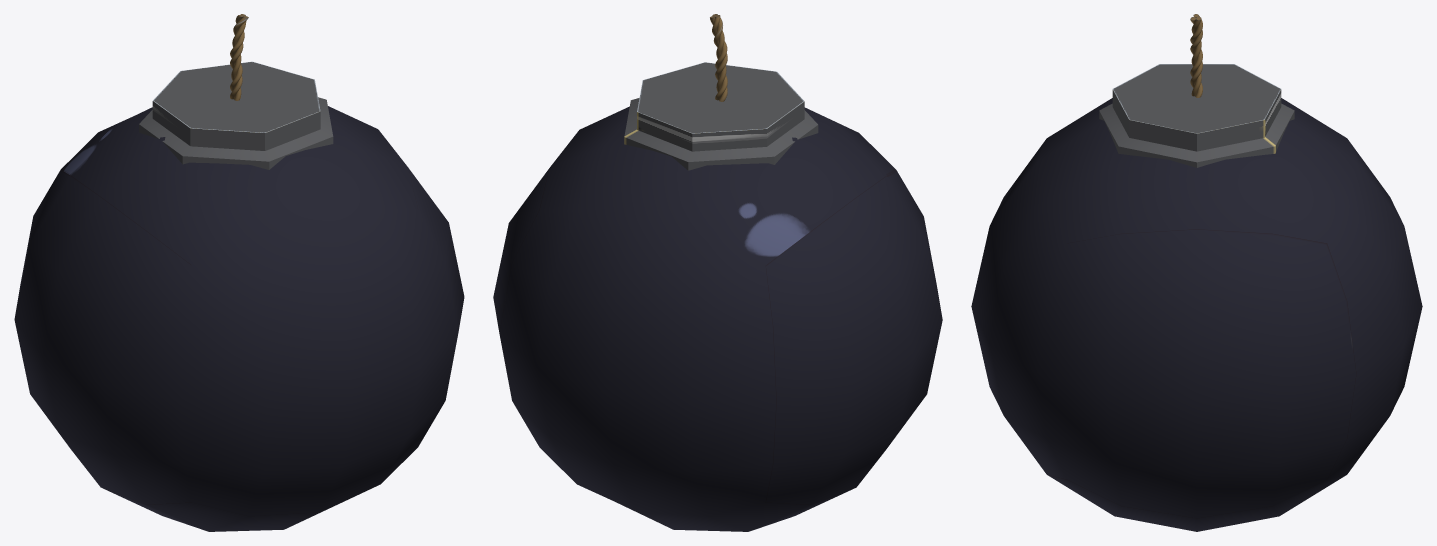
Rendered from Item Bomb.fbx.
3 views of the same model, side by side, from view 1: azimuth 30°, elevation 25°; view 2: azimuth 150°, elevation 25°; view 3: azimuth 270°, elevation 25° (orthographic).
Visible parts, largest first — view 1: pCube1, pCylinder1, Candle_wick:pCylinder7; view 2: pCube1, pCylinder1, Candle_wick:pCylinder7; view 3: pCube1, pCylinder1, Candle_wick:pCylinder7.
Part boxes in pixels (left/top/right/bottom): pCube1: left=14, top=106, right=464, bottom=531; pCylinder1: left=139, top=61, right=333, bottom=169; Candle_wick:pCylinder7: left=230, top=14, right=248, bottom=100; pCube1: left=493, top=106, right=942, bottom=531; pCylinder1: left=624, top=62, right=818, bottom=170; Candle_wick:pCylinder7: left=710, top=14, right=727, bottom=101; pCube1: left=971, top=98, right=1422, bottom=531; pCylinder1: left=1099, top=64, right=1294, bottom=167; Candle_wick:pCylinder7: left=1190, top=14, right=1202, bottom=97.
Size of the model in its own units: 4.16 by 5.04 by 4.16.
